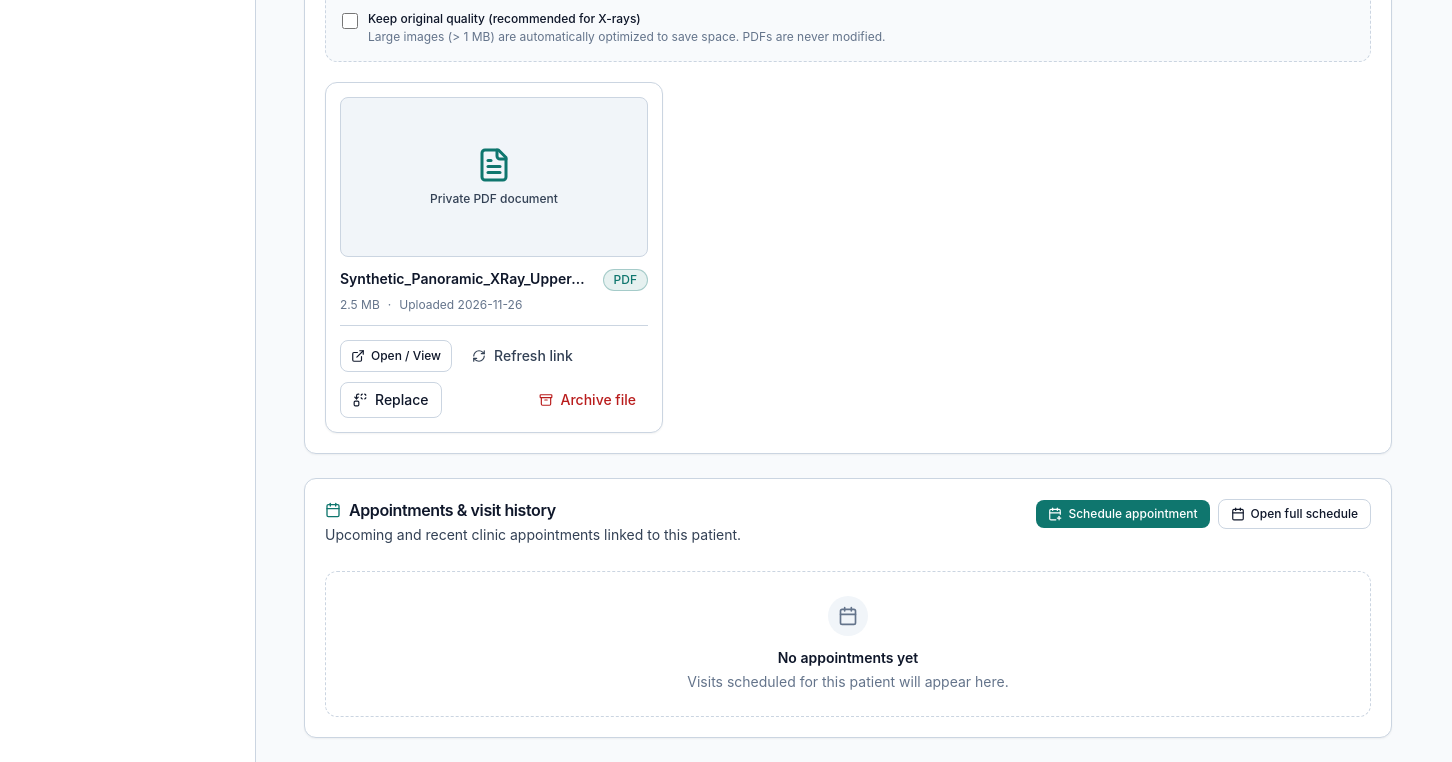
T-06 Patient private clinical files UI & signed URL flow › 4. Handles very long filenames cleanly (Overflow) and requires explicit inline UI confirmation before archiving
(page scrolled)
Check: the text "PDF" is shown, box [603,269,648,291]
Check: the text "2.5 MB" is shown, box [340,297,380,313]
Open archive confirmation inline (never window.confirm)
Click the button "Archive file": [587, 400] box [526,382,648,418]
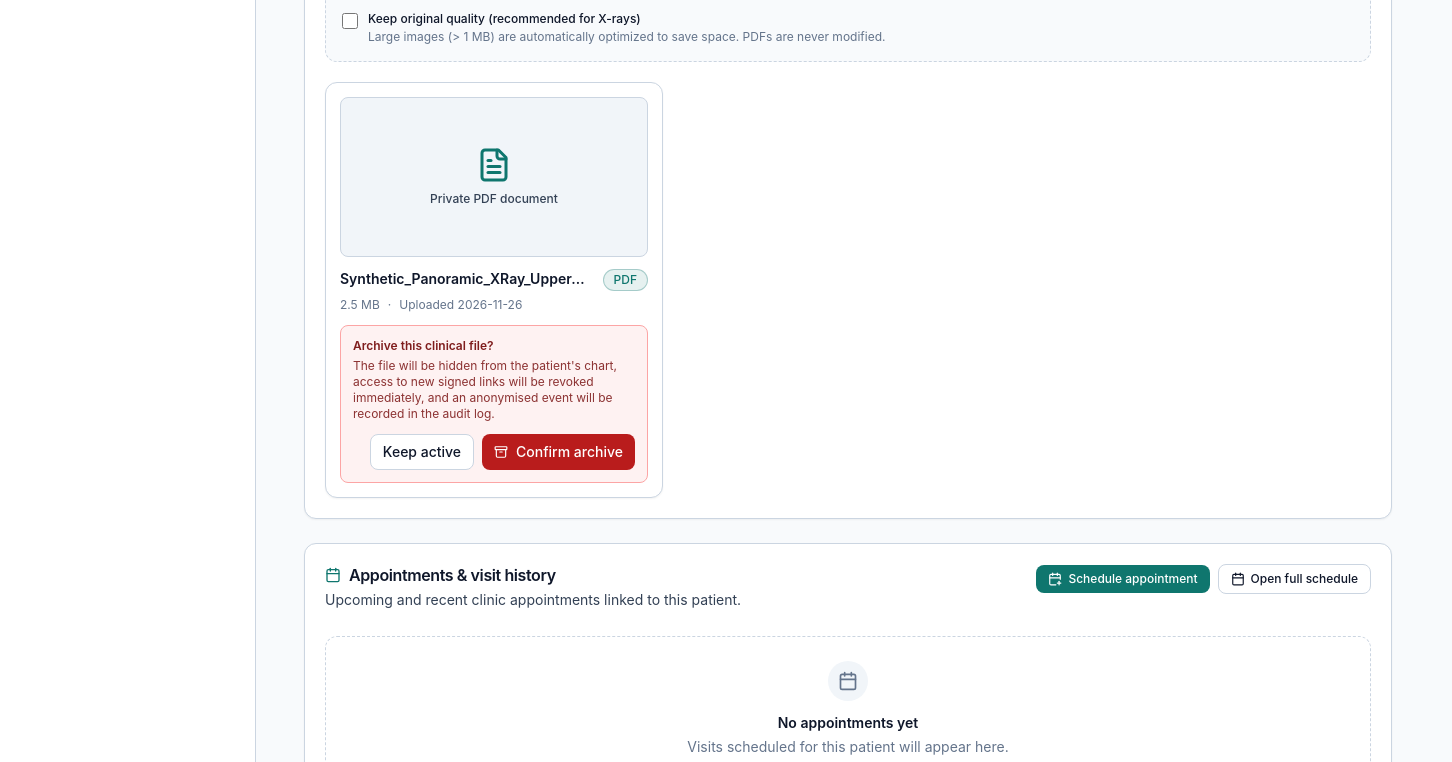
Check: the element "Archive this clinical file?" is shown, box [340,325,648,483]
Cancel keeps file visible
Click the button "Keep active": [422, 452] box [370,434,474,470]
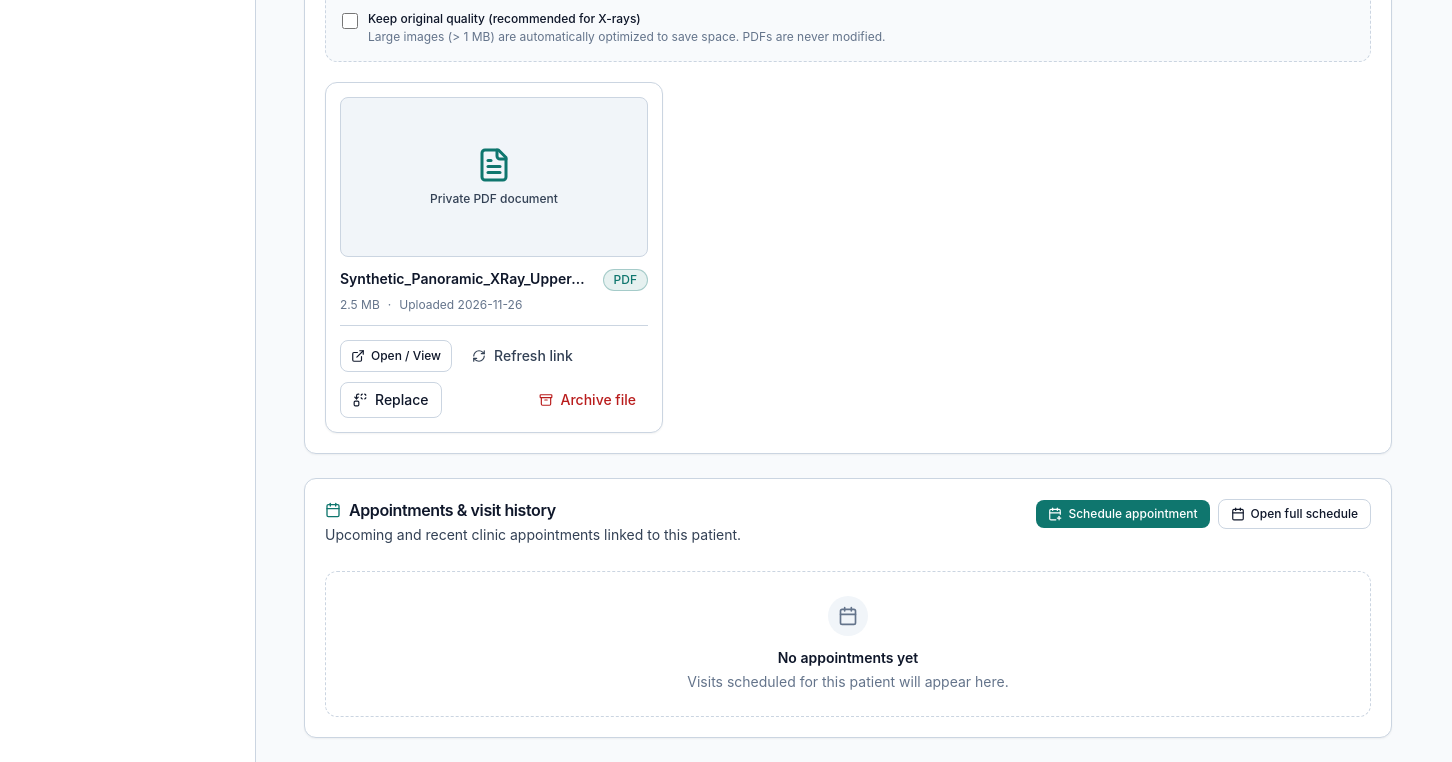
Confirm archive removes file from gallery and calls repository
Click the button "Archive file": [587, 400] box [526,382,648,418]
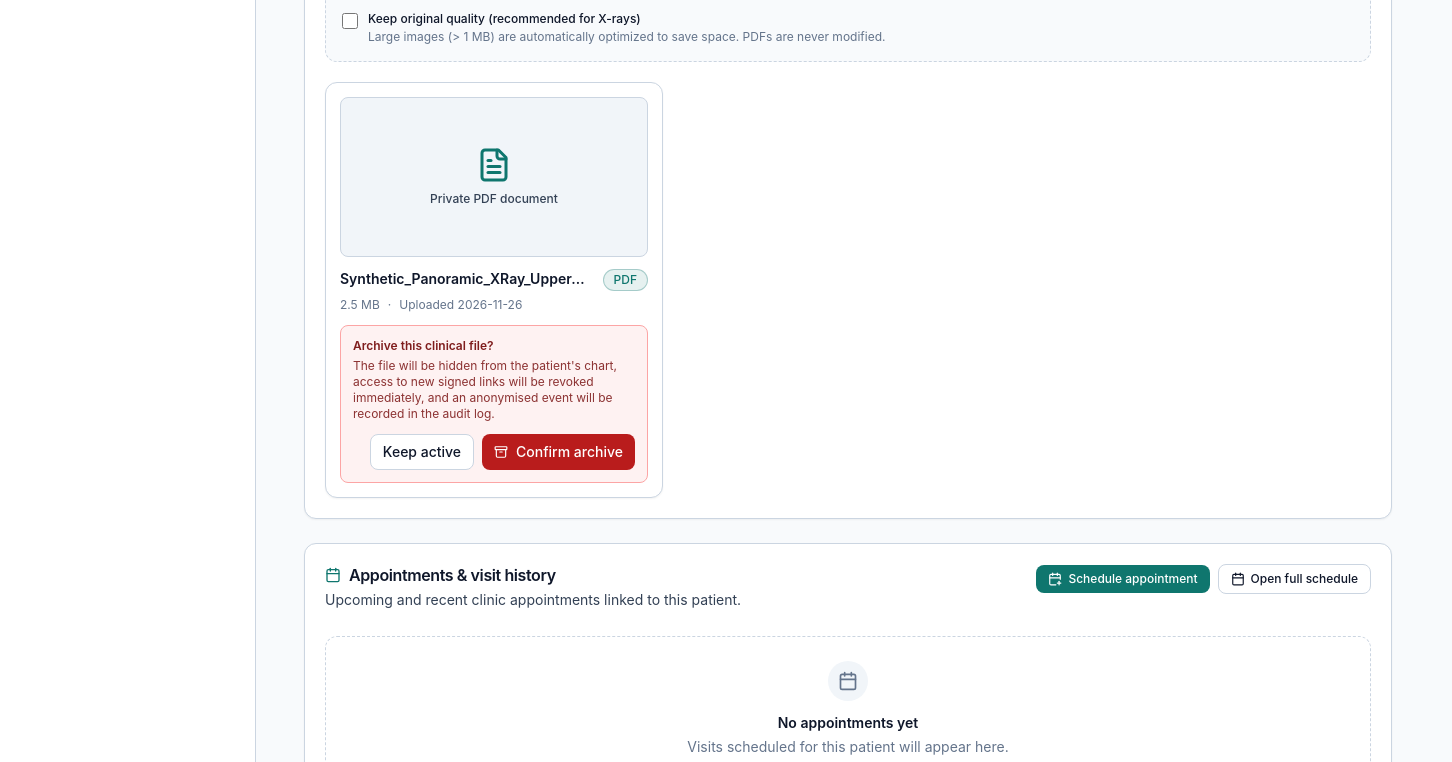
Click the button "Confirm archive": [559, 452] box [482,434,635,470]
(page scrolled)
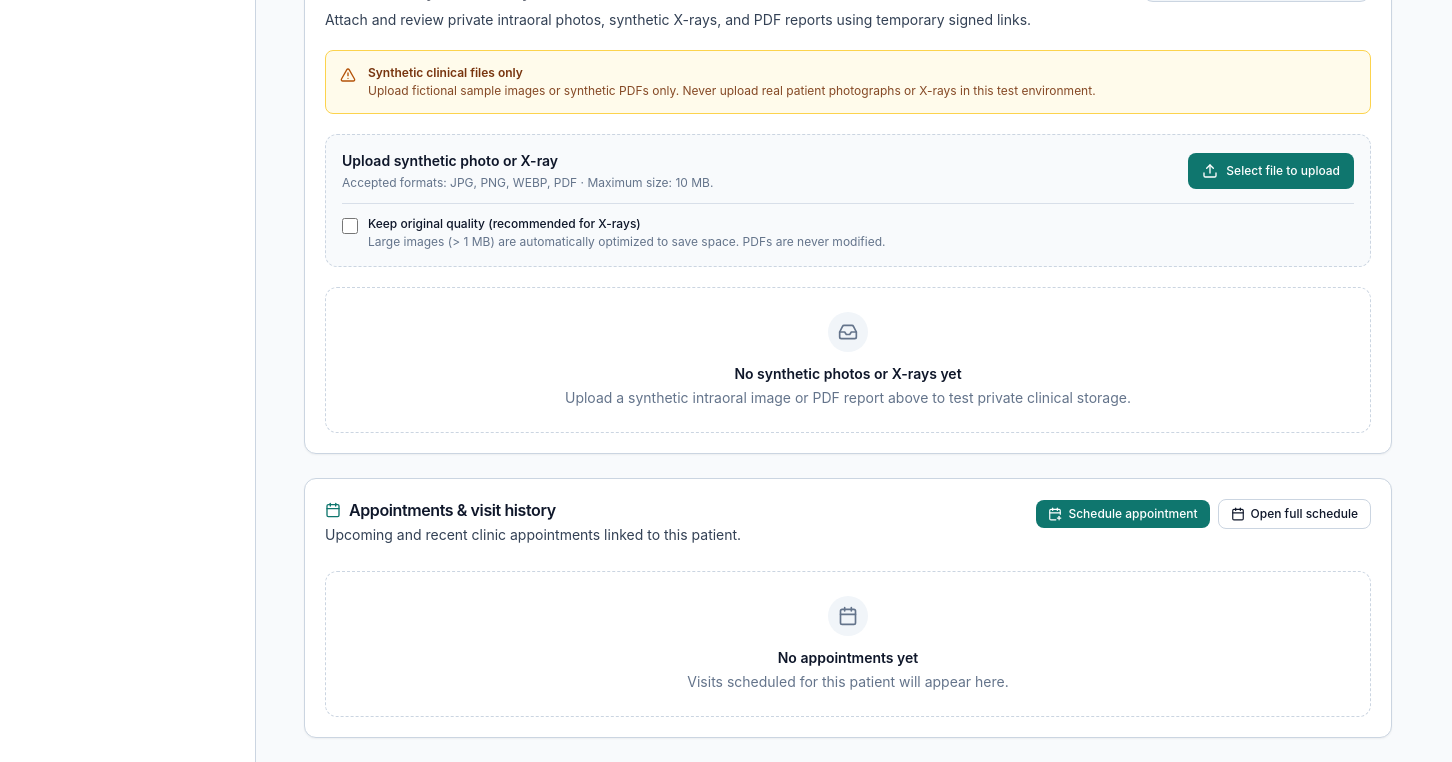
Check: the text "No synthetic photos or X-rays yet" is shown, box [734,365,962,382]
